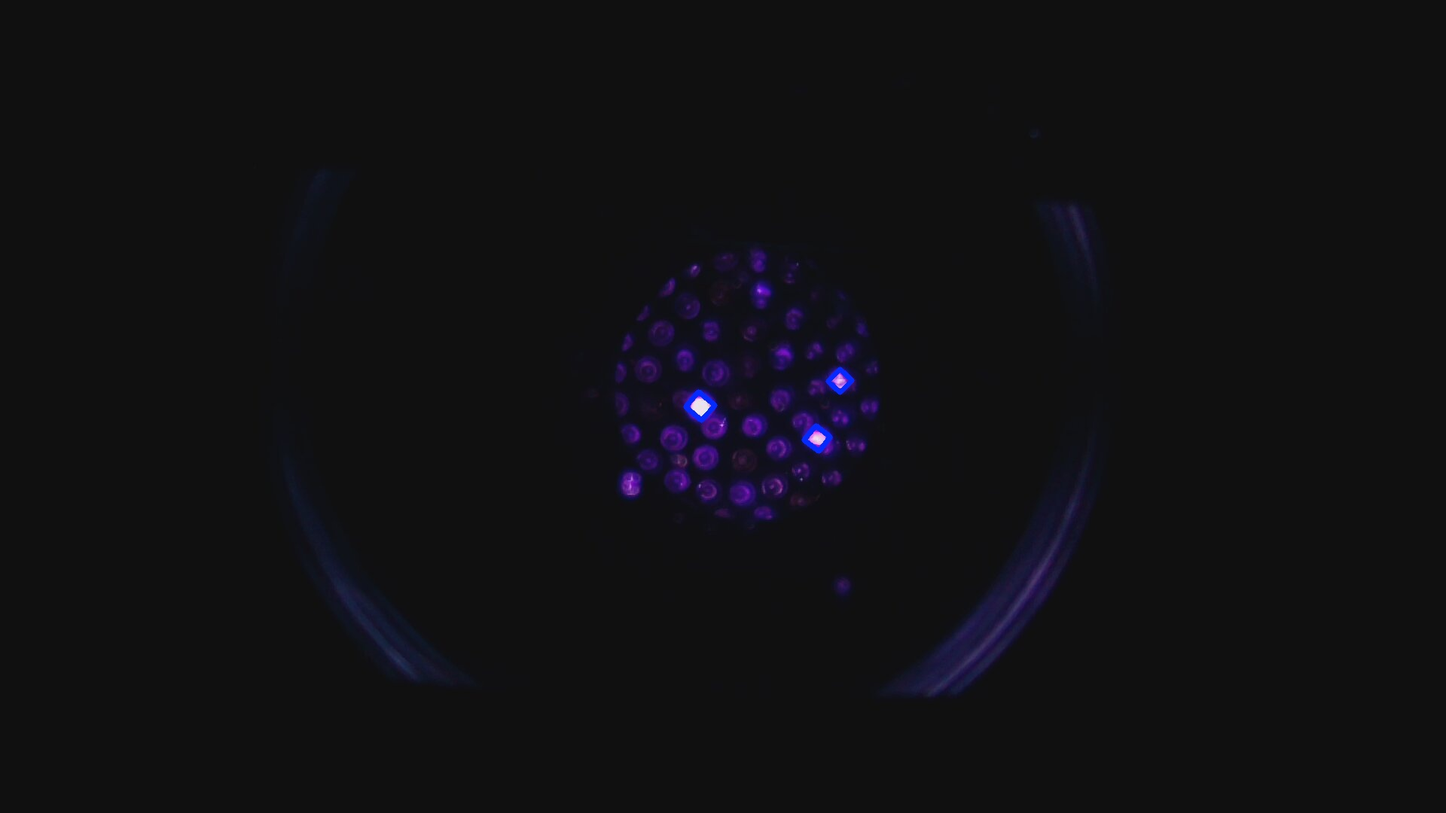plastic: (680, 386, 721, 427), (800, 421, 835, 456), (824, 365, 856, 397)
